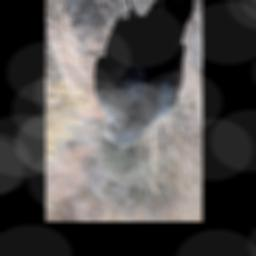Crow: (92, 0, 195, 147)
